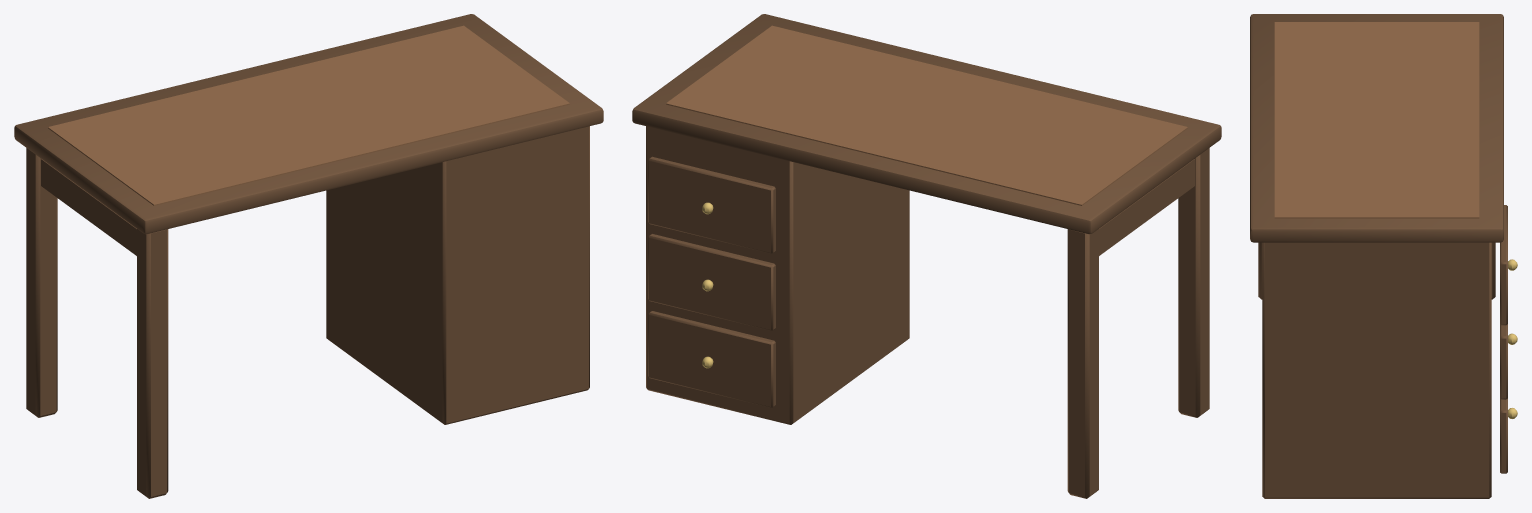
Rendered from arr_scrivania.fbx.
The picture shows the model from 3 angles, left to right: view 1: azimuth 30°, elevation 25°; view 2: azimuth 150°, elevation 25°; view 3: azimuth 270°, elevation 25°; orthographic projection. The views are drawn at different scales.
Visible parts, largest first — view 1: arr_scrivania_noce, arr_scrivania_cuoio; view 2: arr_scrivania_noce, arr_scrivania_cuoio; view 3: arr_scrivania_noce, arr_scrivania_cuoio.
Part boxes in pixels (bbox=[...]): arr_scrivania_noce: bbox=[14, 14, 603, 498]; arr_scrivania_cuoio: bbox=[48, 25, 569, 205]; arr_scrivania_noce: bbox=[632, 14, 1221, 498]; arr_scrivania_cuoio: bbox=[666, 25, 1187, 205]; arr_scrivania_noce: bbox=[1250, 14, 1507, 498]; arr_scrivania_cuoio: bbox=[1274, 22, 1479, 218].
Bounding box in the file's own units: 1.25 × 0.743 × 0.654.
